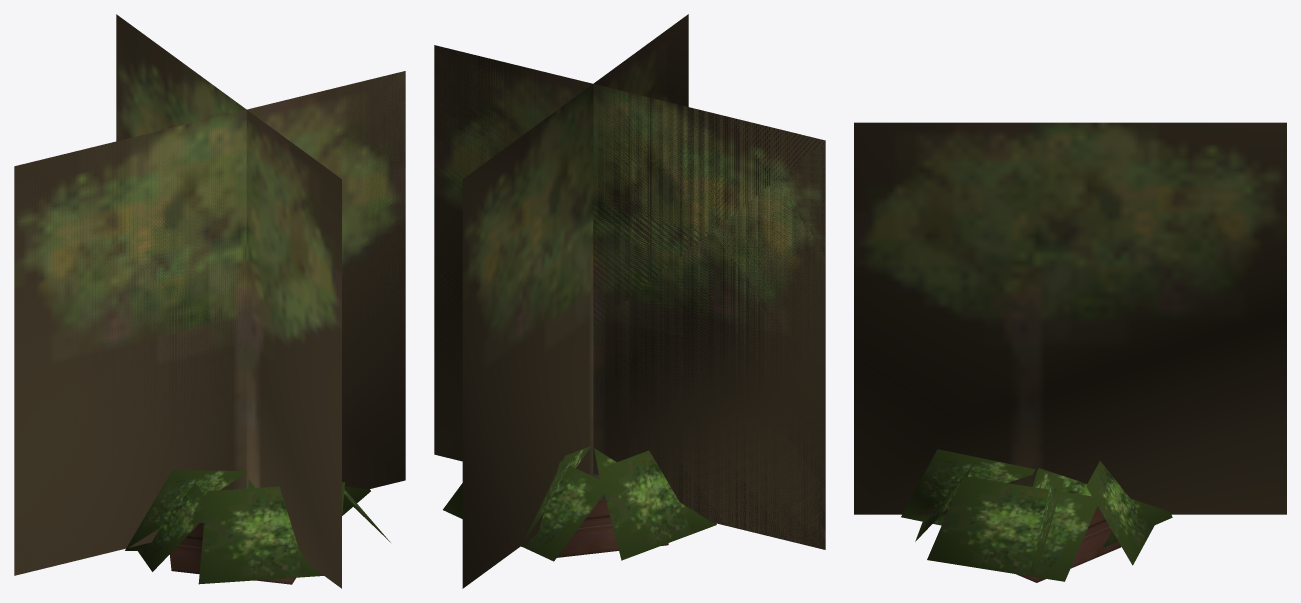
Rendered from mun_all_imprv_planter_s02_l3.fbx.
3 views of the same model, side by side, from view 1: azimuth 30°, elevation 25°; view 2: azimuth 150°, elevation 25°; view 3: azimuth 270°, elevation 25° (orthographic). The views are drawn at different scales.
Parts seen in each view (by area): view 1: mesh_node; view 2: mesh_node; view 3: mesh_node.
Part boxes in pixels (left/top/right/bottom): mesh_node: left=14, top=14, right=405, bottom=588; mesh_node: left=434, top=14, right=825, bottom=588; mesh_node: left=854, top=122, right=1286, bottom=582.
Bounding box in the file's own units: 7.69 × 8.34 × 7.69.
